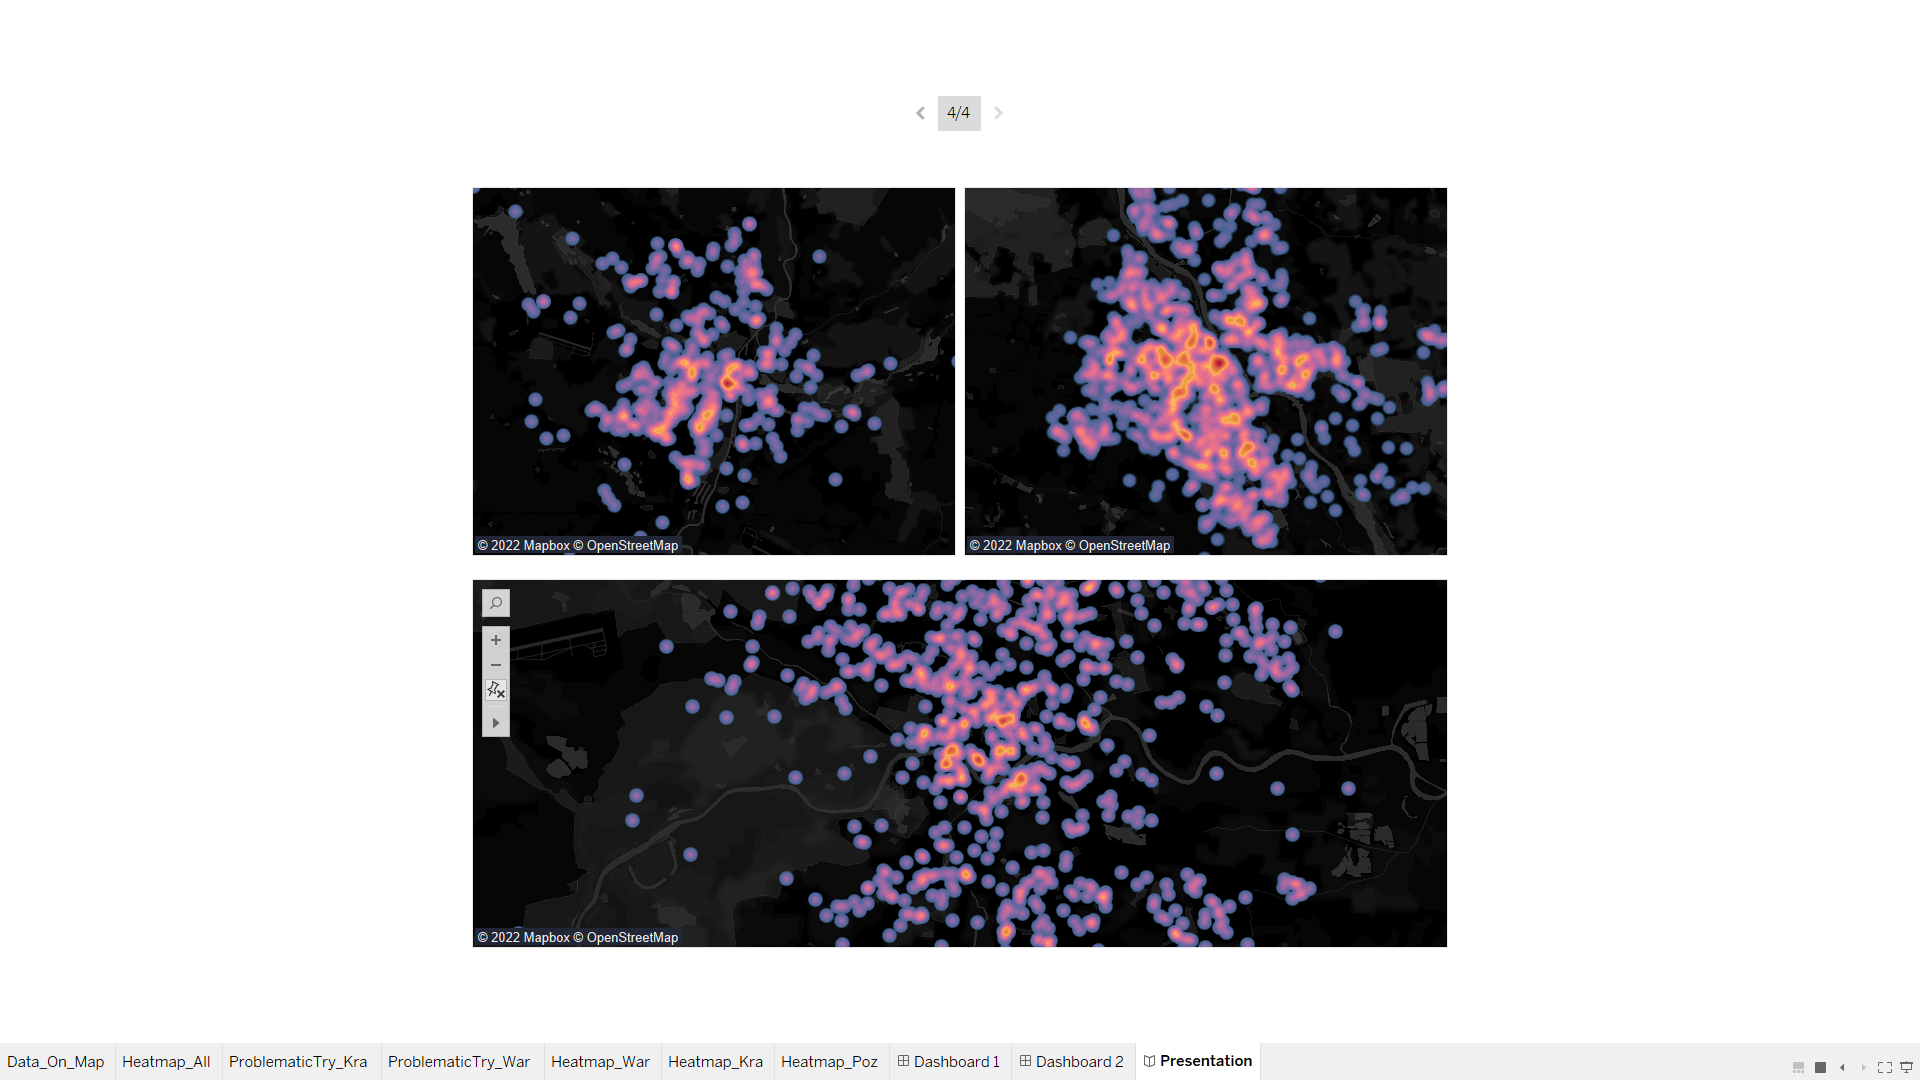

This screenshot's page, from the dashboard's own definition file:
{"tool":"tableau","page":{"name":"Dashboard 2","canvas":[1000,800],"ordinal":1},"visuals":[{"type":"worksheet","title":"Heatmap_Poz","mark":"Heatmap","rows":["latitude"],"cols":["longitude"],"box":[8,8,492,392]},{"type":"worksheet","title":"Heatmap_War","mark":"Heatmap","rows":["latitude"],"cols":["longitude"],"box":[500,8,492,392]},{"type":"worksheet","title":"Heatmap_Kra","mark":"Heatmap","rows":["latitude"],"cols":["longitude"],"box":[8,400,984,392]}]}

Visuals, with their boxes on the page's 1000x800 design canvas (x1, y1, x2, y2). These are canvas units, not pixel positions in the 1920x1080 screenshot, which may show the page scaled, cropped or inside an application window:
"Heatmap_Poz" worksheet (Heatmap marks): (8, 8, 500, 400)
"Heatmap_War" worksheet (Heatmap marks): (500, 8, 992, 400)
"Heatmap_Kra" worksheet (Heatmap marks): (8, 400, 992, 792)
